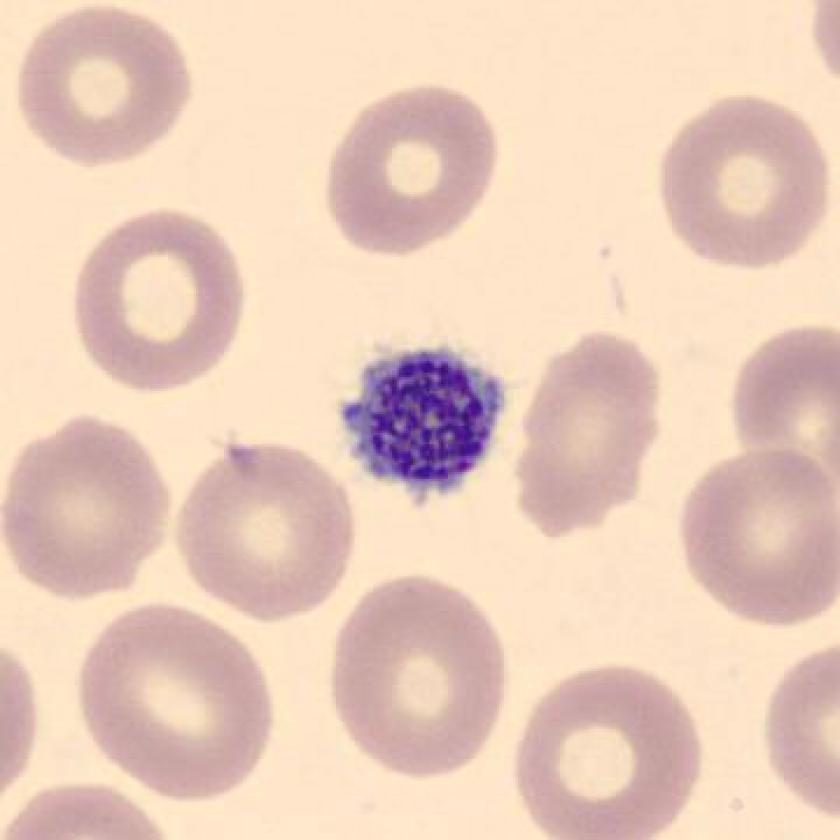platelets: (330, 327, 526, 510)
